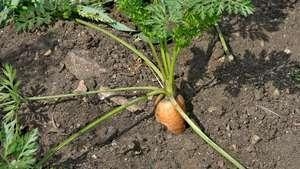carrot: (146, 79, 193, 146)
